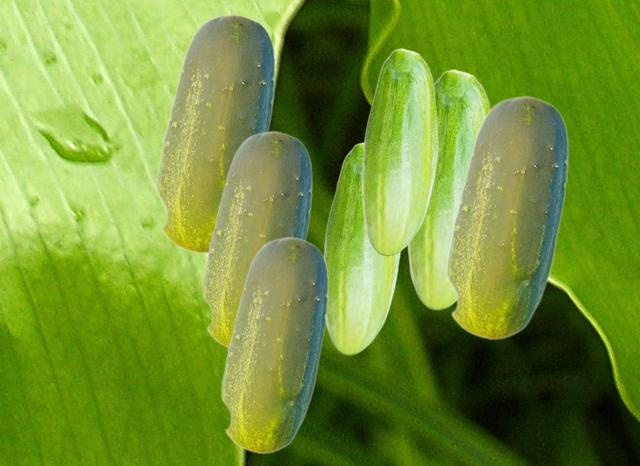cucumber: (445, 95, 567, 339), (155, 13, 274, 253), (201, 130, 311, 348), (220, 236, 327, 453), (406, 69, 491, 309), (323, 142, 400, 354), (361, 48, 437, 255)
